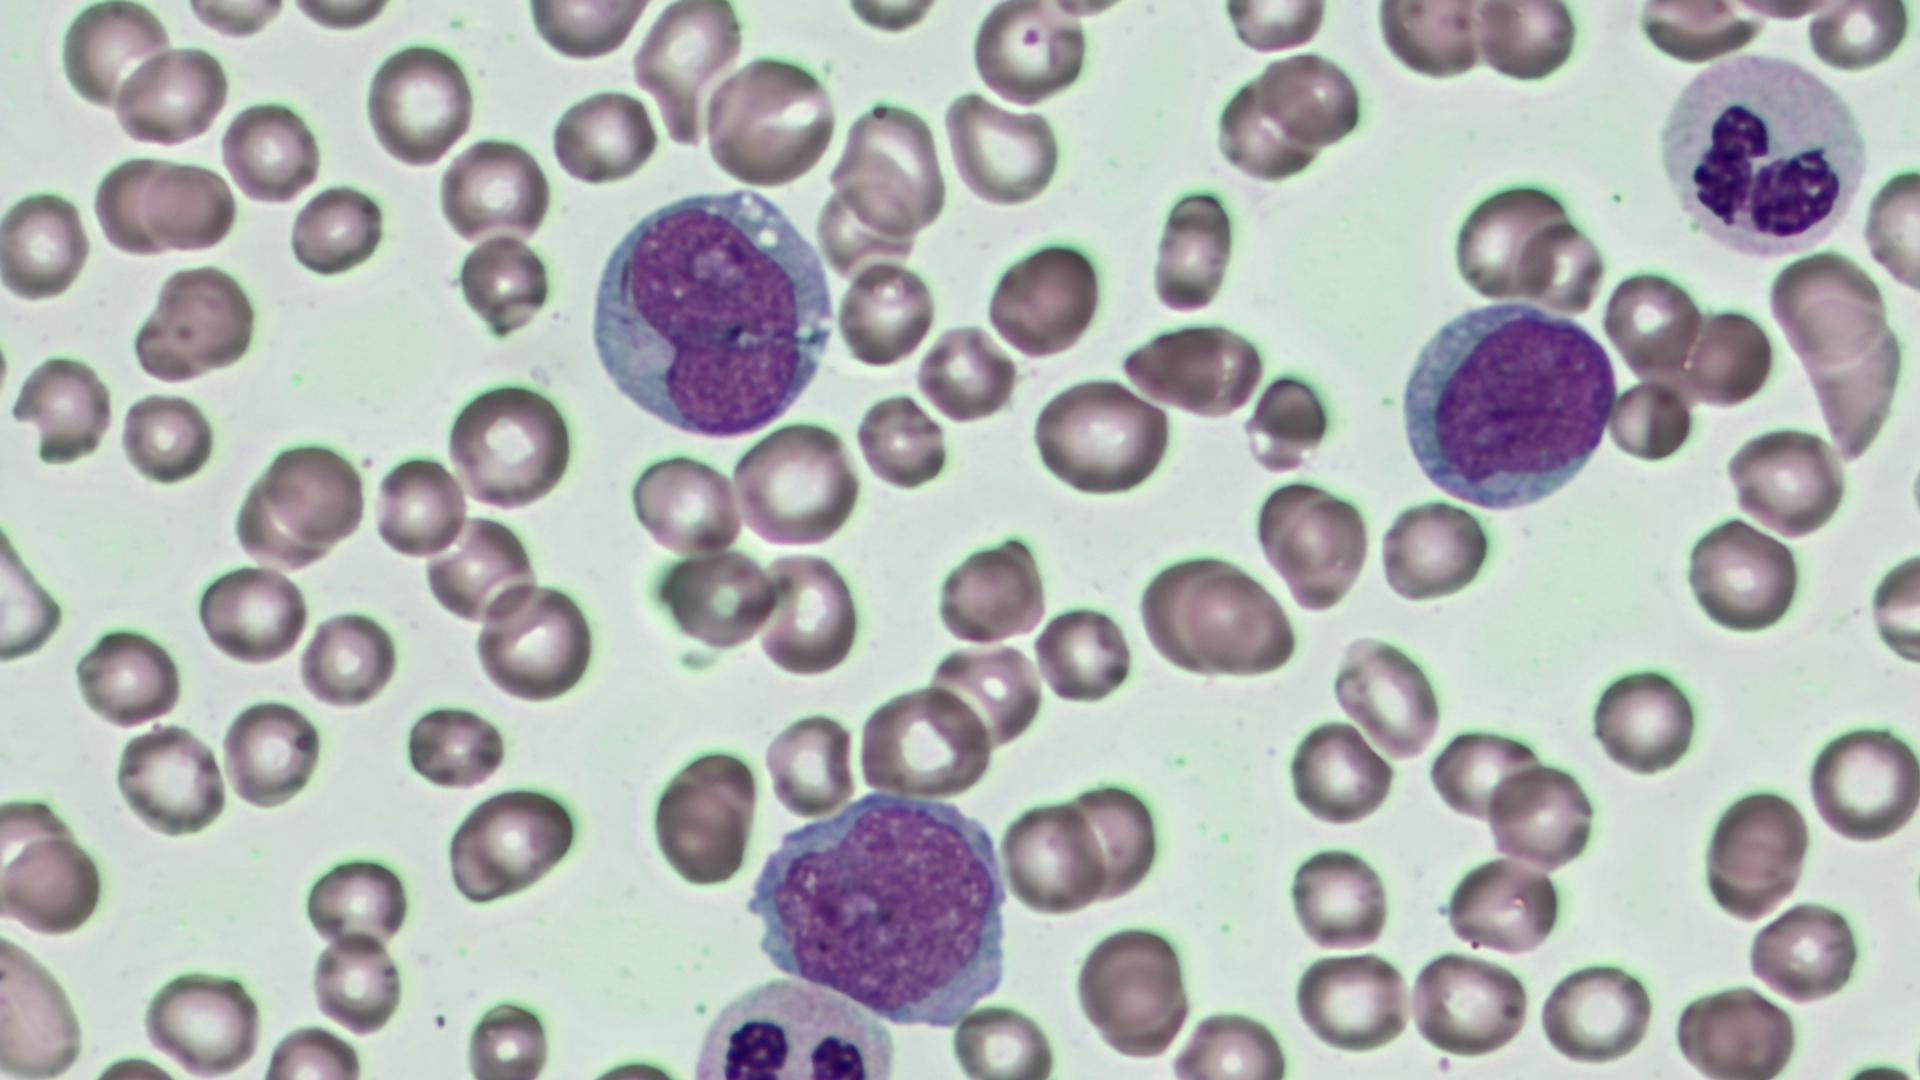RBC: (699, 50, 840, 191), (729, 416, 862, 554), (1028, 373, 1174, 498), (628, 0, 746, 149), (447, 376, 574, 513), (1074, 920, 1194, 1060), (443, 784, 580, 903), (130, 259, 262, 382), (1253, 476, 1370, 614), (648, 743, 758, 889), (851, 683, 991, 797), (1700, 784, 1814, 923), (472, 579, 597, 705), (1118, 318, 1271, 420), (361, 39, 478, 172), (1332, 630, 1446, 765), (836, 97, 945, 236), (1803, 719, 1920, 848), (941, 89, 1064, 211), (1682, 513, 1802, 637), (1767, 245, 1887, 368), (138, 962, 267, 1075), (0, 800, 105, 936), (986, 239, 1102, 362), (1725, 422, 1848, 538), (1449, 179, 1564, 302), (756, 547, 862, 679), (423, 512, 541, 630), (967, 0, 1090, 110), (998, 796, 1107, 920), (1587, 660, 1701, 778), (1408, 950, 1531, 1059), (1, 926, 90, 1076), (435, 132, 551, 247), (1058, 776, 1163, 903), (5, 348, 115, 469), (654, 544, 778, 650), (113, 723, 227, 838), (1534, 957, 1654, 1066), (1743, 897, 1863, 1006), (1292, 946, 1413, 1054), (1671, 977, 1800, 1078), (55, 0, 168, 115), (192, 559, 310, 669), (625, 447, 744, 556), (1485, 758, 1599, 871), (1374, 496, 1492, 603), (1285, 716, 1393, 832), (1183, 567, 1294, 679), (111, 45, 226, 150), (1282, 842, 1392, 951), (1442, 855, 1563, 954), (71, 622, 181, 730), (1213, 72, 1319, 184), (934, 540, 1046, 646), (1425, 725, 1542, 824), (219, 696, 322, 808), (1148, 185, 1236, 315), (836, 258, 938, 369), (219, 97, 320, 208), (548, 84, 656, 187), (1602, 266, 1704, 375), (367, 452, 468, 562), (0, 185, 92, 305), (301, 850, 409, 952), (914, 321, 1018, 424), (229, 470, 335, 571), (90, 152, 189, 260), (1030, 601, 1132, 705), (295, 607, 398, 709), (266, 440, 366, 545), (764, 708, 858, 819), (307, 929, 406, 1031), (455, 233, 552, 337), (1259, 50, 1361, 146), (117, 388, 216, 486), (287, 182, 385, 280), (853, 390, 947, 492), (401, 701, 505, 788), (947, 998, 1060, 1078), (1470, 1, 1580, 83), (1684, 305, 1772, 407), (1166, 1006, 1290, 1078), (1514, 217, 1605, 314), (1372, 2, 1482, 82), (0, 521, 61, 663), (142, 159, 233, 252), (1630, 1, 1766, 63), (459, 992, 557, 1076), (1860, 161, 1920, 296), (1800, 0, 1911, 72), (522, 1, 650, 63), (1608, 379, 1692, 462), (257, 1020, 370, 1080), (1869, 545, 1920, 672), (1218, 0, 1332, 54), (179, 0, 292, 42), (280, 0, 401, 33)
WBC: (578, 181, 840, 444), (740, 786, 1015, 1032), (1389, 295, 1622, 515), (1650, 48, 1872, 268), (679, 975, 902, 1076)
